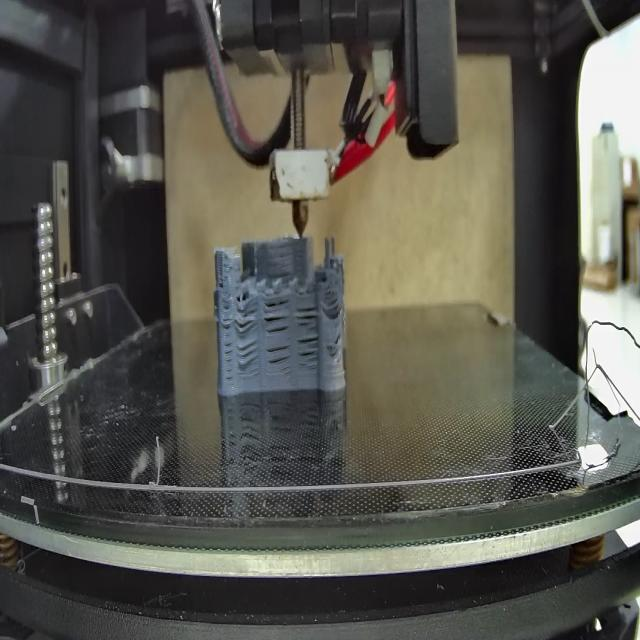cracks: (263, 298, 291, 334), (221, 305, 234, 382), (266, 343, 292, 378), (298, 335, 320, 369), (294, 302, 320, 330), (238, 341, 258, 372), (235, 309, 258, 332), (326, 332, 342, 357), (267, 266, 294, 280), (325, 300, 343, 318), (218, 278, 227, 290)
